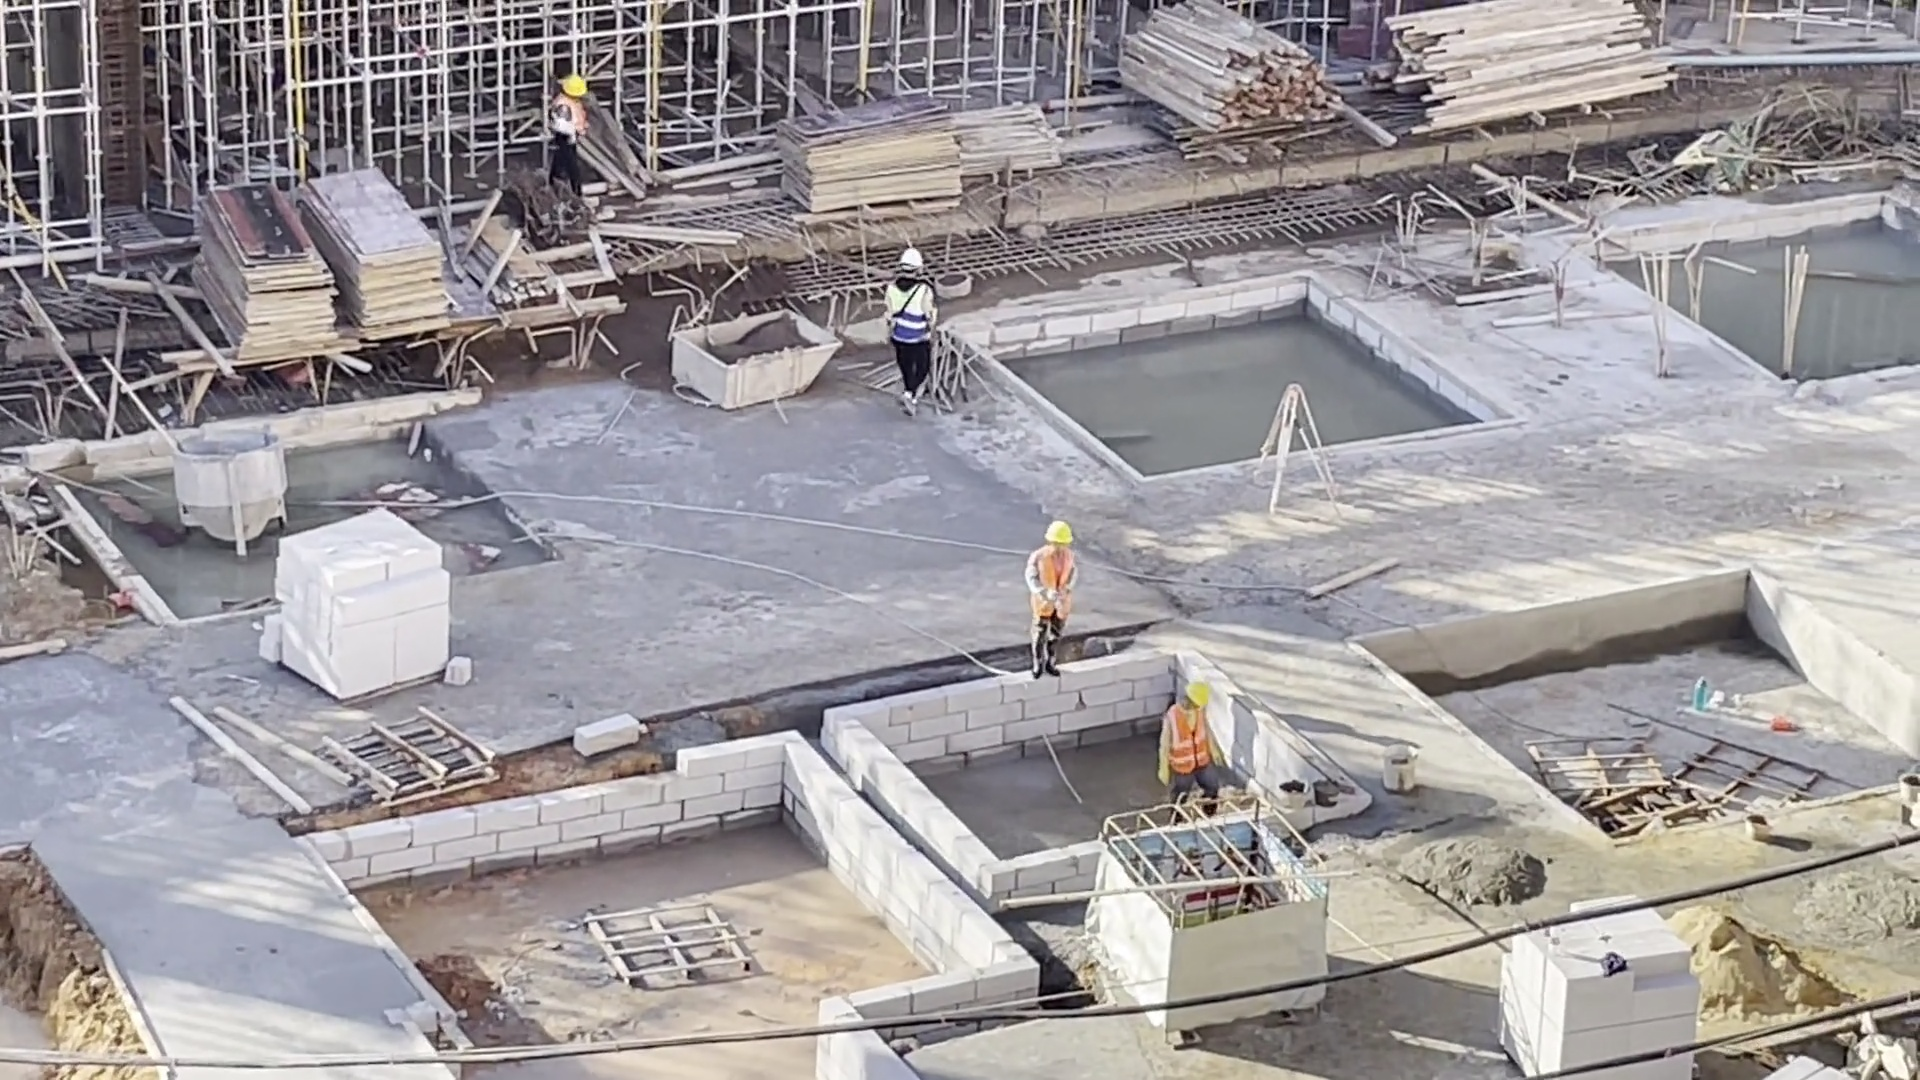board: (182, 180, 344, 365), (296, 165, 458, 345), (778, 91, 964, 216)
brick: (269, 508, 447, 697), (1489, 952, 1701, 1041)
helmet: (1041, 517, 1074, 546), (1184, 678, 1212, 709), (896, 246, 926, 272), (561, 74, 589, 99)
hopper: (669, 302, 840, 412), (158, 427, 287, 554)
person: (884, 247, 941, 420), (1151, 676, 1227, 800), (1024, 519, 1080, 680), (545, 73, 597, 202)
vest: (1028, 545, 1076, 620), (1166, 704, 1215, 774), (890, 279, 936, 343), (553, 96, 589, 140)
wood: (1377, 4, 1680, 127), (1107, 1, 1348, 143)
